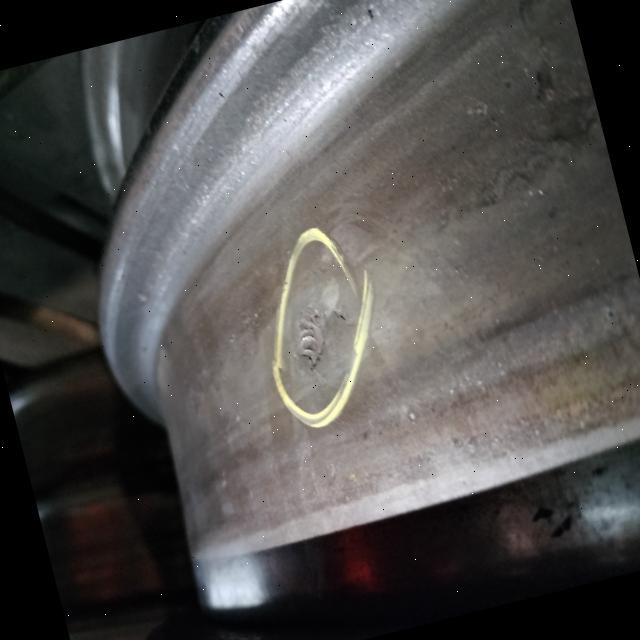Blue hole: (279, 279, 360, 377)
